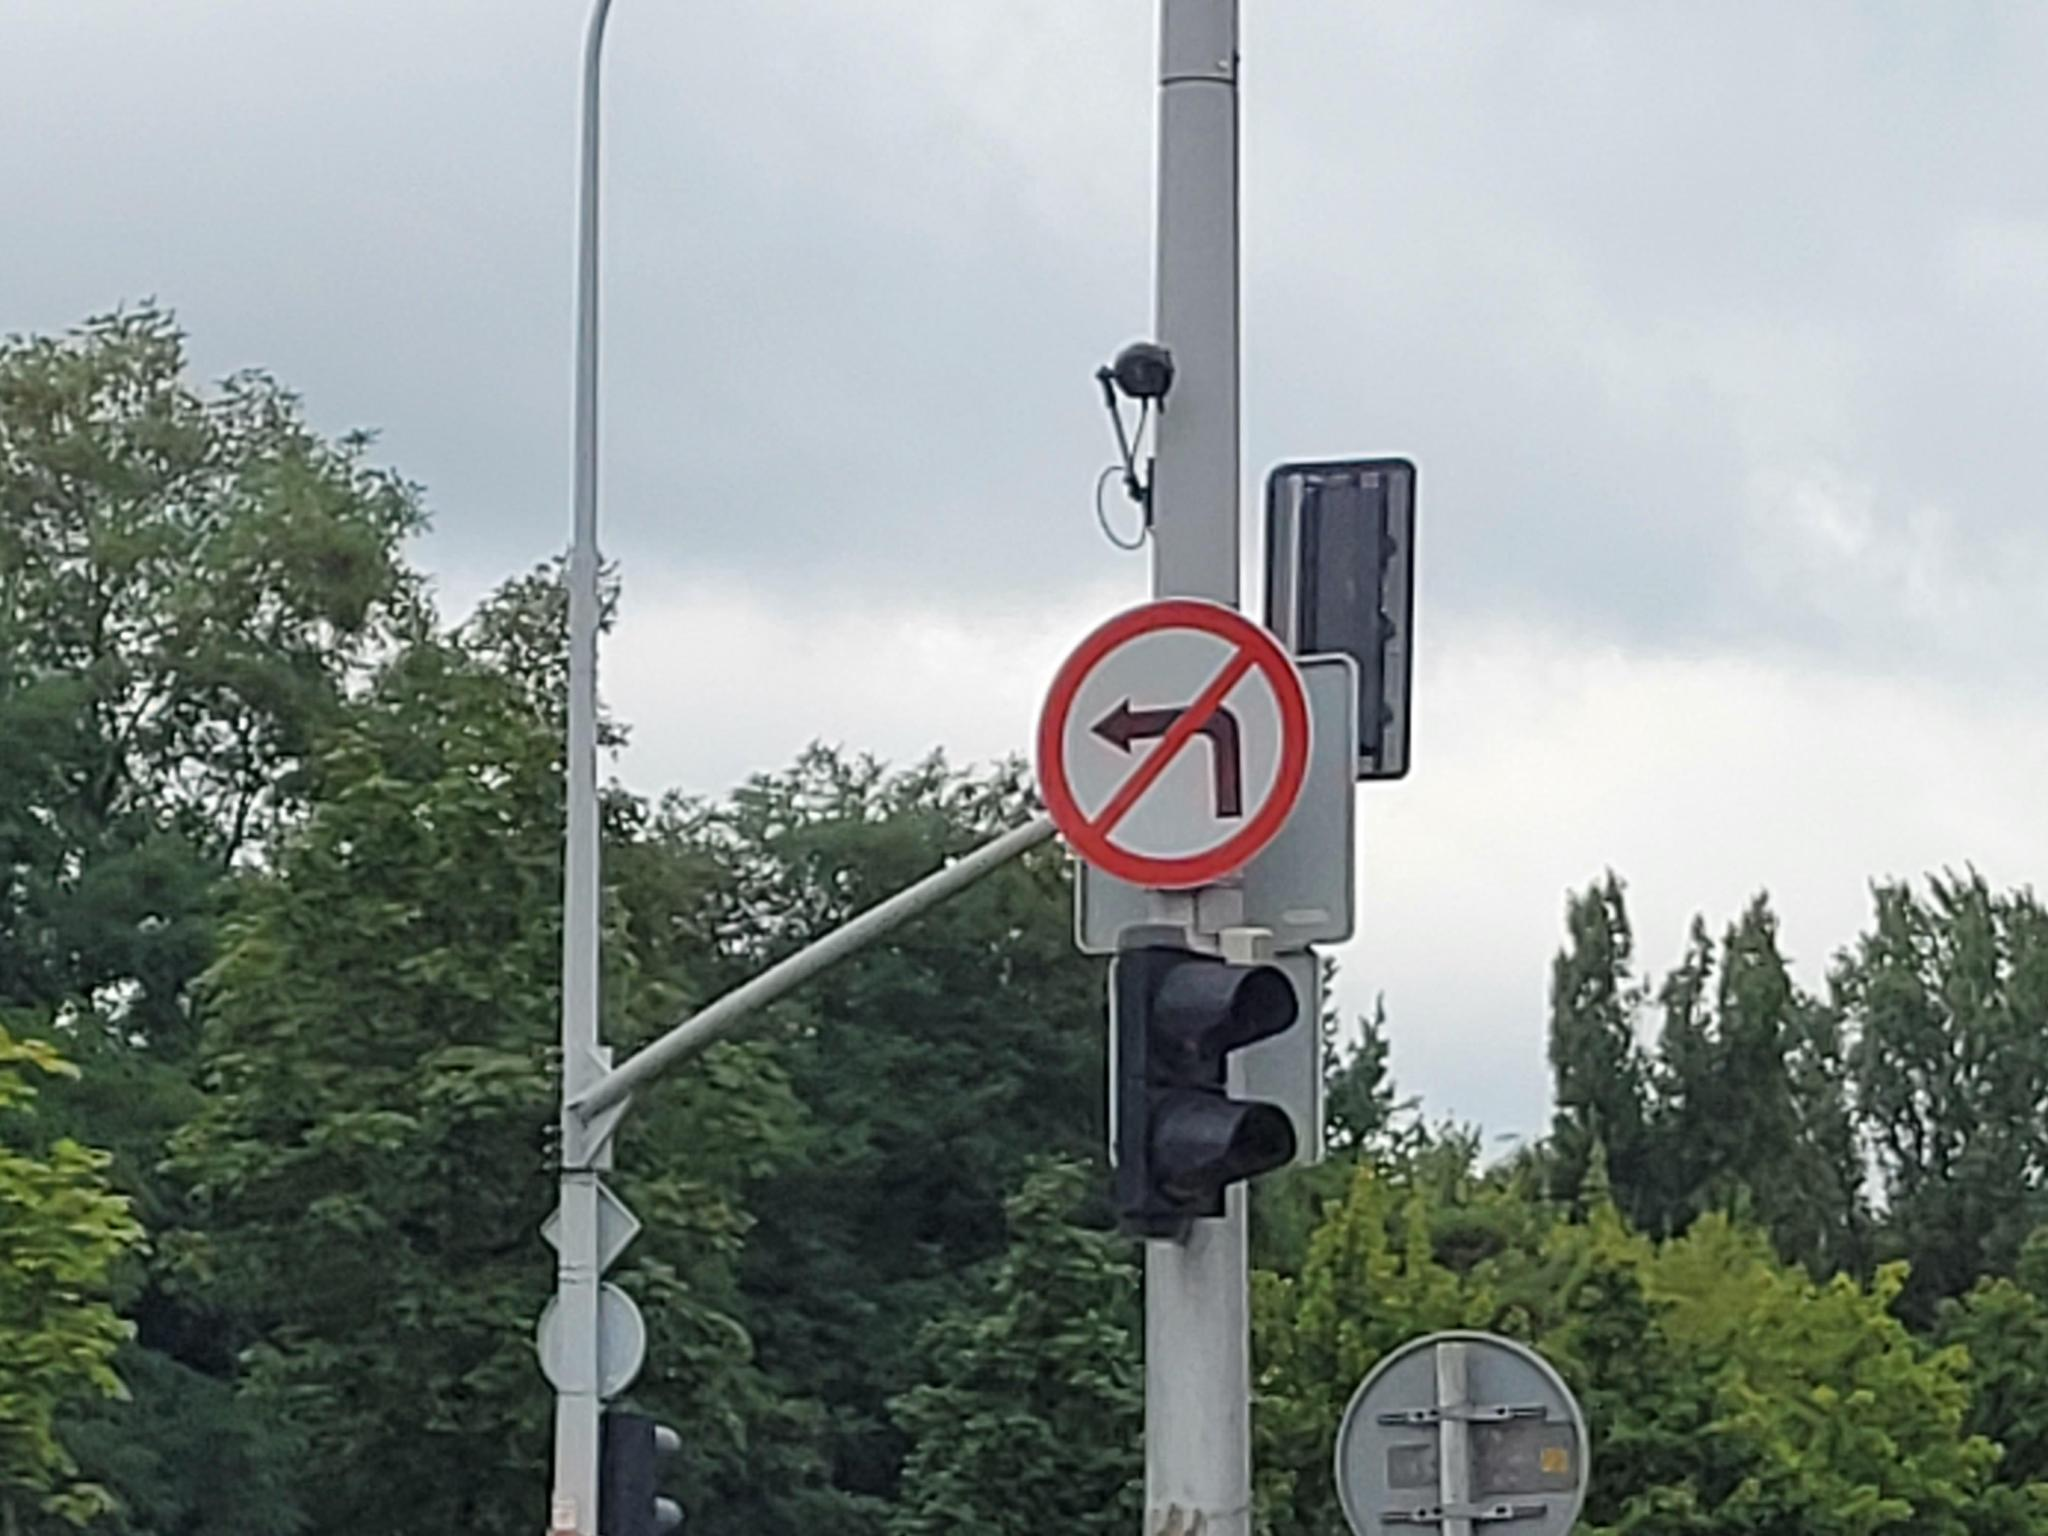prohibitory: (1039, 599, 1314, 891)
